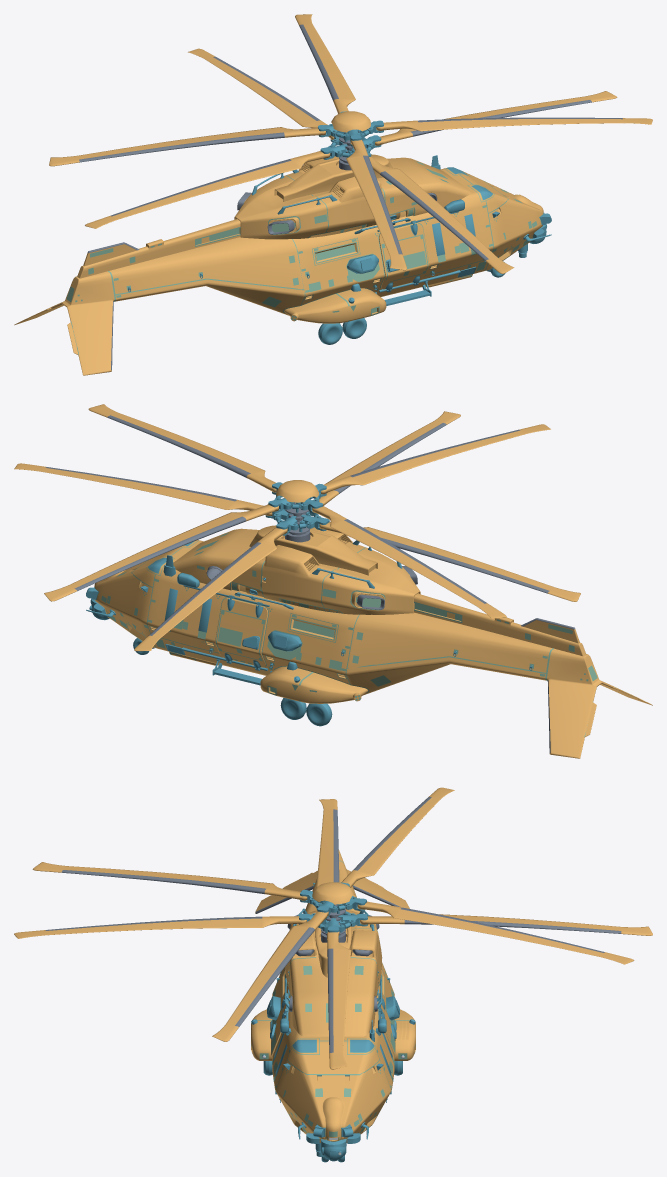
File: SUP_Helicóptero_de_ataque_pesado.glb
The picture shows the model from 3 angles, top to bottom: view 1: azimuth 30°, elevation 25°; view 2: azimuth 150°, elevation 25°; view 3: azimuth 270°, elevation 25°; orthographic projection. The views are drawn at different scales.
Visible parts, largest first — view 1: SUP_Helicóptero_de_ataque_pesado; view 2: SUP_Helicóptero_de_ataque_pesado; view 3: SUP_Helicóptero_de_ataque_pesado.
Boxes of the visible parts, box(x1,y1,x2,y2) form: SUP_Helicóptero_de_ataque_pesado: box(14, 14, 652, 375); SUP_Helicóptero_de_ataque_pesado: box(14, 404, 652, 758); SUP_Helicóptero_de_ataque_pesado: box(14, 787, 652, 1162).
Bounding box in the file's own units: 1898 × 620 × 1775.
